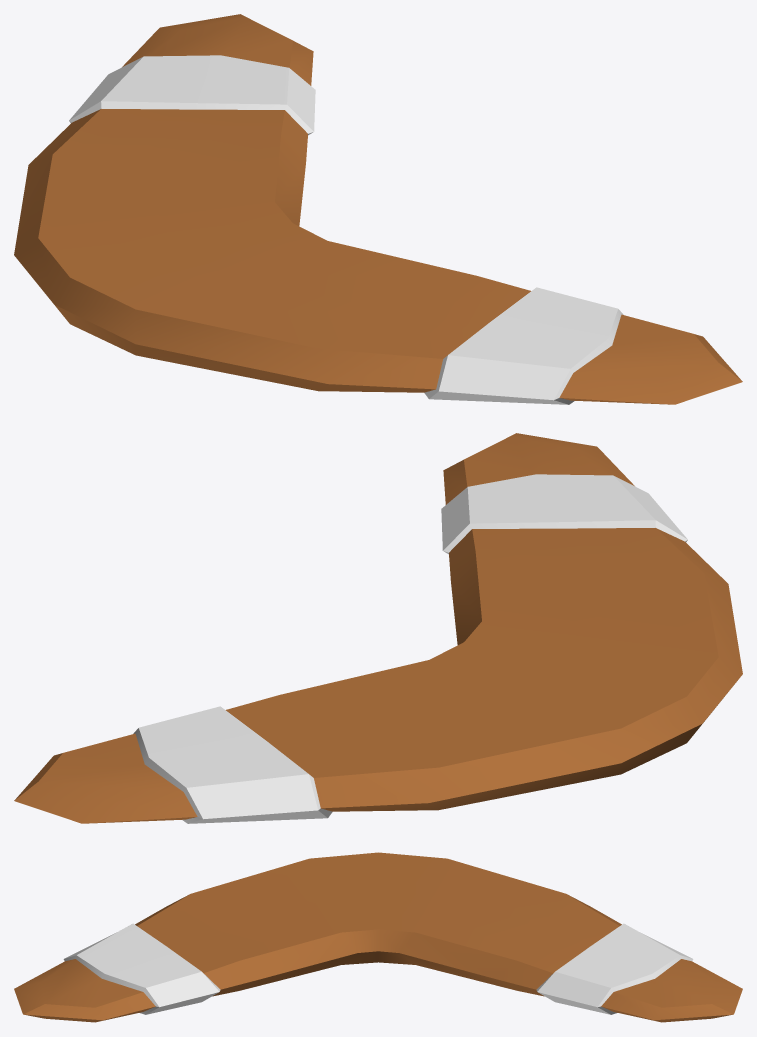
The model's file is boomerang.fbx.
3 views of the same model, one above another, from view 1: azimuth 30°, elevation 25°; view 2: azimuth 150°, elevation 25°; view 3: azimuth 270°, elevation 25° (orthographic). The views are drawn at different scales.
Visible parts, largest first — view 1: Cube; view 2: Cube; view 3: Cube.
Boxes of the visible parts, <box> form: Cube: <box>14,14,742,404</box>; Cube: <box>14,433,742,823</box>; Cube: <box>14,852,742,1022</box>.
Size of the model in its own units: 191 by 18.82 by 376.
